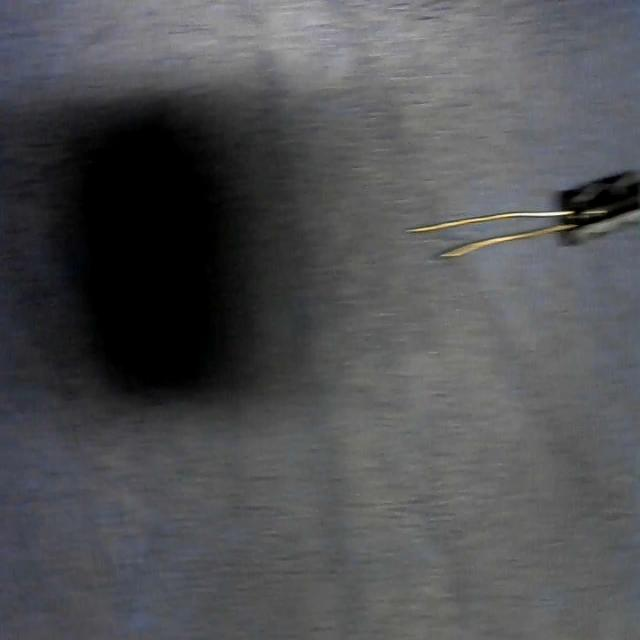capacitor: (425, 172, 640, 253)
